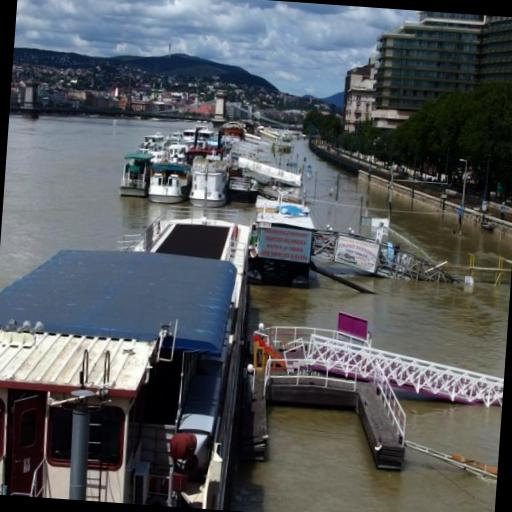flood: (0, 117, 254, 290), (235, 407, 497, 512), (252, 278, 511, 381), (390, 211, 512, 268), (290, 136, 358, 229), (407, 404, 502, 450), (392, 212, 457, 263), (361, 181, 389, 219)
house: (342, 6, 512, 136)
